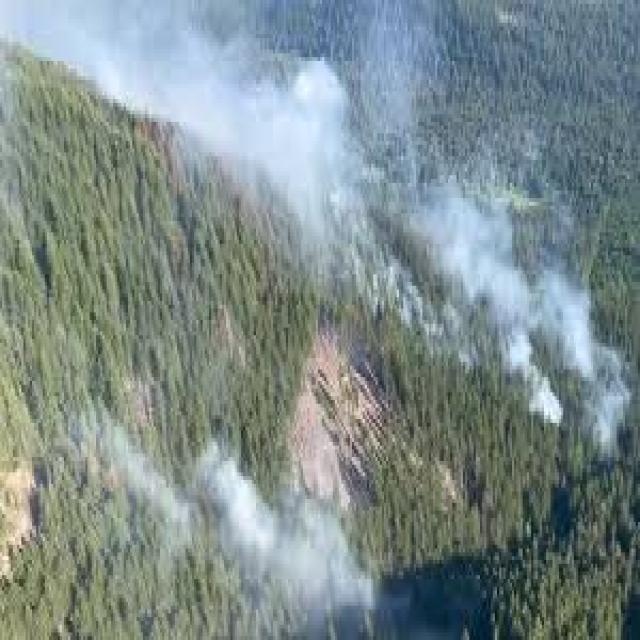Smoke: (480, 206, 631, 435), (122, 0, 326, 160), (210, 470, 395, 640), (264, 48, 386, 298), (416, 168, 544, 357)
